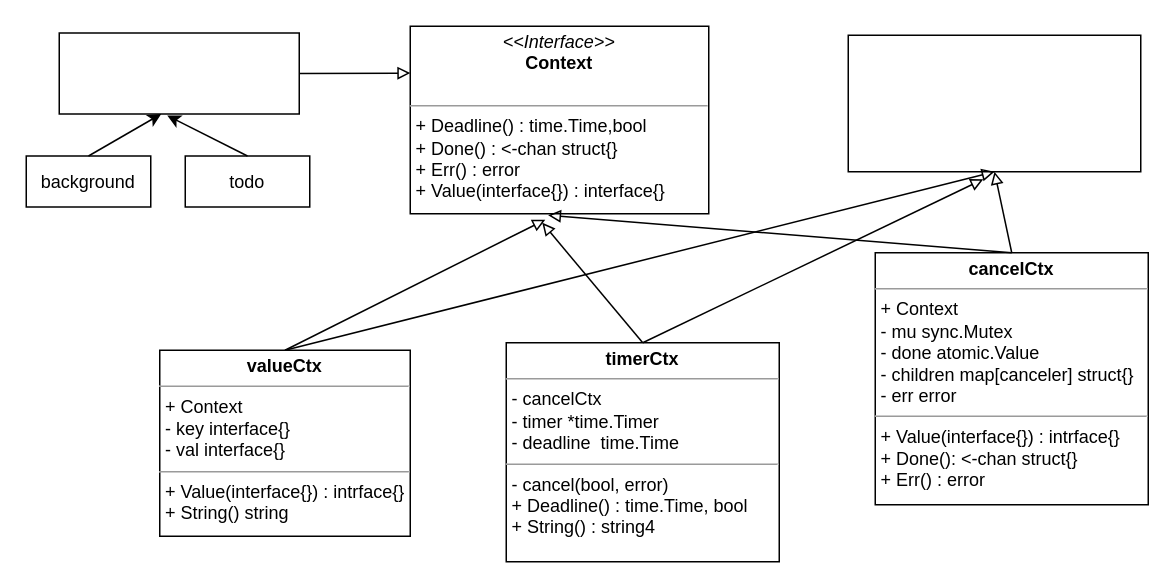
The diagram is 1175 pixels wide and 588 high, and some of its shapes have lost their labels. The box of each missing label's shape, as (x1, y1, x2, y2) in pixels:
<<Interface>> canceler - cancel(bool, error) + Done() : <-chan struct{}: (847, 34, 1141, 172)
emptyCtx + String(): string: (58, 32, 299, 114)
